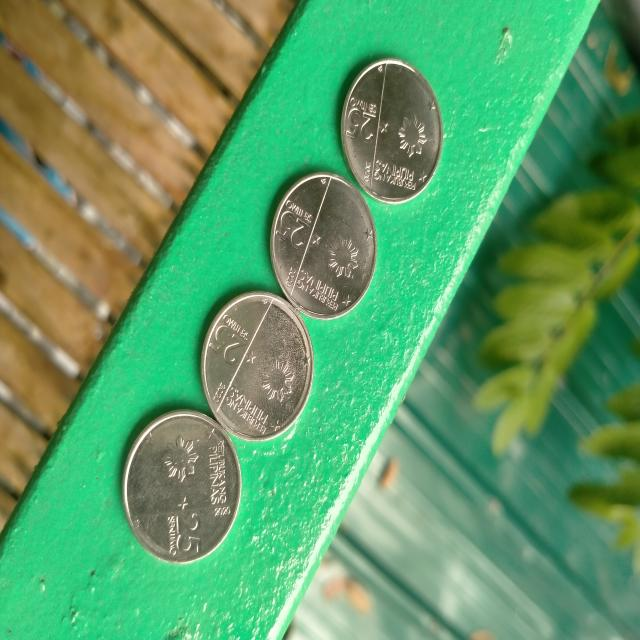25Cent_New_Front: (205, 314, 300, 428), (149, 427, 229, 560), (279, 192, 364, 311)
